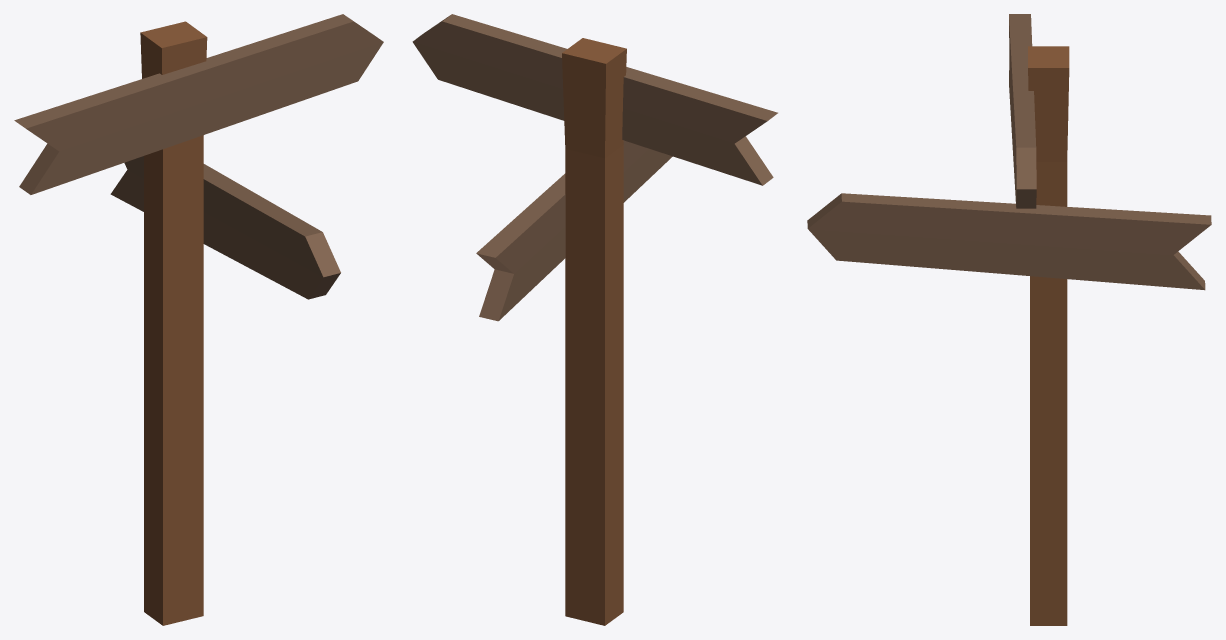
File: Done_Signal.glb
3 renders of one model, left to right at view 1: azimuth 30°, elevation 25°; view 2: azimuth 150°, elevation 25°; view 3: azimuth 270°, elevation 25°, orthographic. The views are drawn at different scales.
Parts seen in each view (by area): view 1: Signal; view 2: Signal; view 3: Signal.
Boxes of the visible parts, x1=… form: Signal: x1=14, y1=14, x2=383, y2=625; Signal: x1=412, y1=14, x2=777, y2=625; Signal: x1=807, y1=14, x2=1211, y2=625.
Size of the model in its own units: 1.7 by 2.6 by 1.7.
